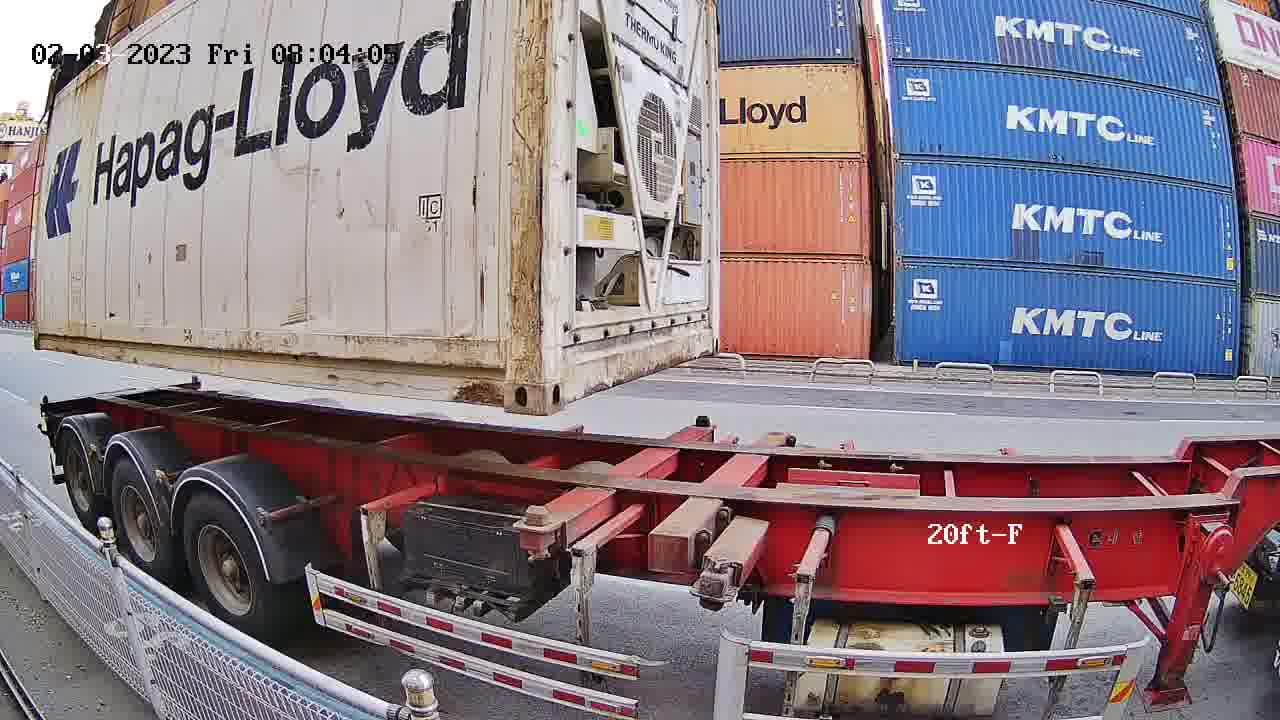Chassis: (513, 423, 716, 549)
Cone: (519, 503, 557, 564), (689, 413, 713, 432)
Hole_L: (544, 342, 592, 416)
Hole_R: (475, 344, 544, 415), (699, 319, 722, 358)
Tire: (181, 495, 272, 638), (110, 462, 166, 578), (62, 436, 99, 524)
